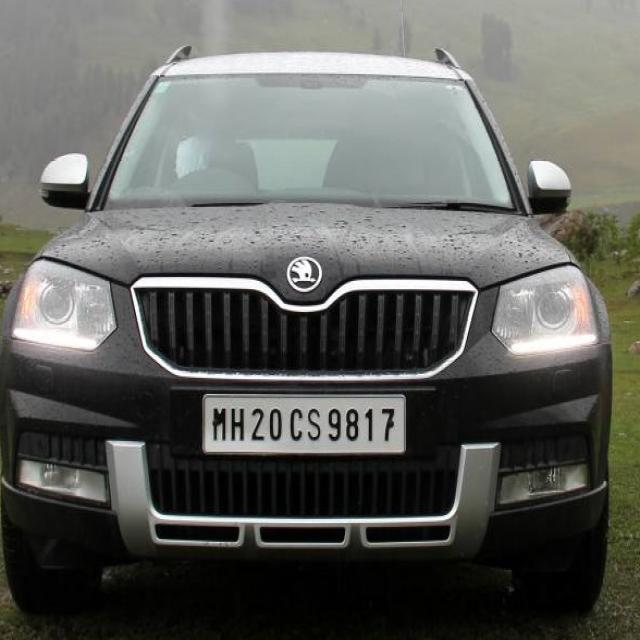license-plate: (200, 388, 406, 454)
